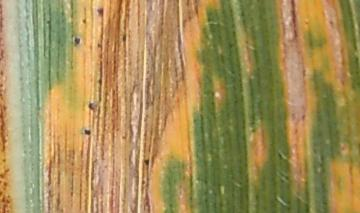tarspot: (289, 1, 299, 40), (96, 6, 105, 20), (86, 101, 96, 112), (209, 90, 216, 105), (275, 151, 285, 161), (301, 67, 308, 81), (73, 35, 81, 47), (341, 141, 348, 154), (327, 17, 334, 29), (302, 17, 310, 27), (120, 32, 127, 43), (83, 129, 92, 137), (95, 41, 103, 50), (290, 111, 296, 122), (293, 126, 299, 137), (44, 18, 51, 27), (140, 177, 146, 187), (143, 158, 150, 166), (300, 113, 306, 122), (250, 126, 256, 135), (339, 78, 345, 85), (81, 17, 86, 25), (120, 135, 128, 140)
